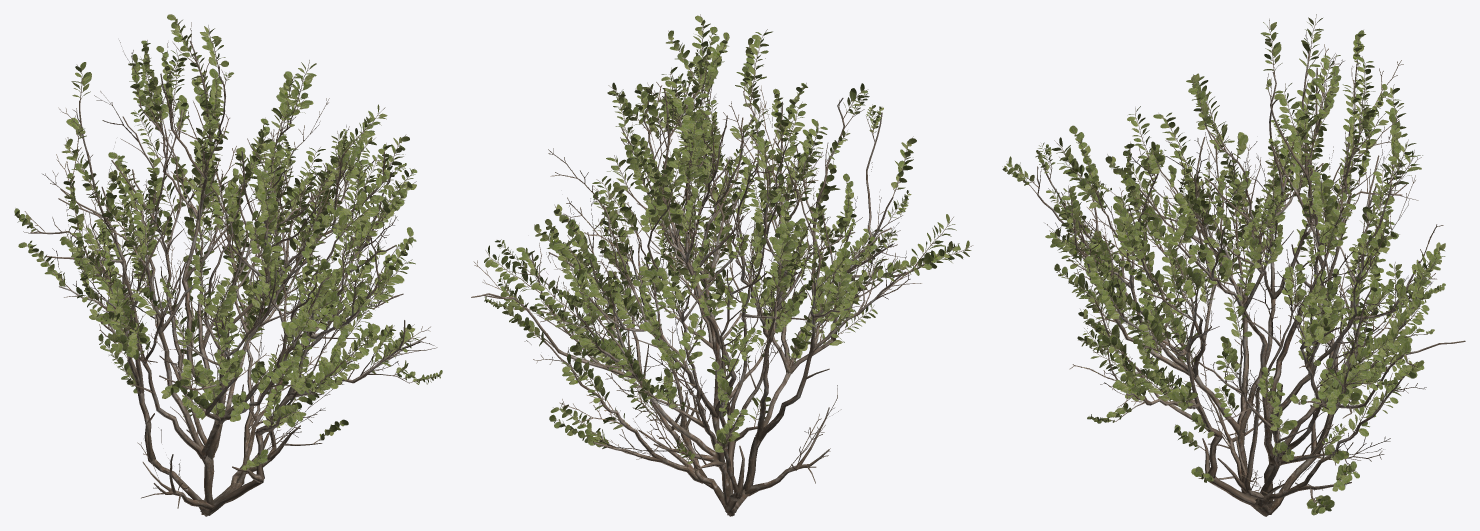
The model's file is Searsia-Lucida-A-Candidate.glb.
The picture shows the model from 3 angles, left to right: view 1: azimuth 30°, elevation 25°; view 2: azimuth 150°, elevation 25°; view 3: azimuth 270°, elevation 25°; orthographic projection. The views are drawn at different scales.
Visible parts, largest first — view 1: Searsia_lucida_A; view 2: Searsia_lucida_A; view 3: Searsia_lucida_A.
Boxes of the visible parts, x1,y1,x2,y2 form: Searsia_lucida_A: [14, 14, 442, 516]; Searsia_lucida_A: [471, 14, 973, 516]; Searsia_lucida_A: [1002, 14, 1465, 516].
Bounding box in the file's own units: 1.81 × 2.34 × 1.97.
3 materials, 3 textured.
